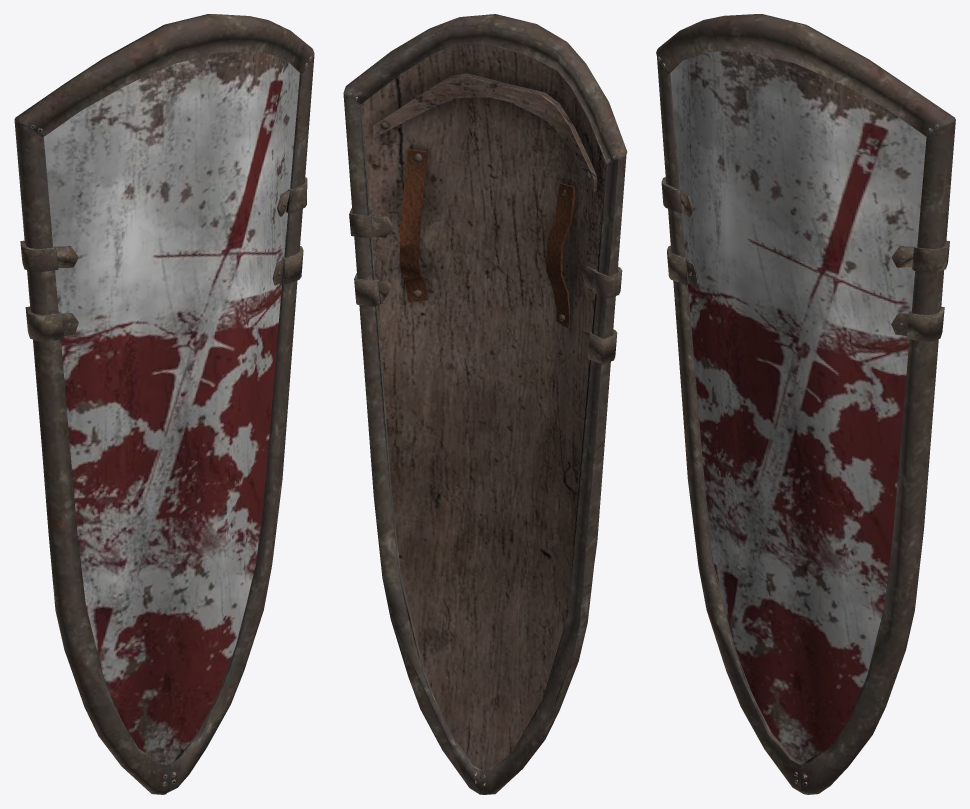
The model's file is kite_shield.glb.
3 views of the same model, side by side, from view 1: azimuth 30°, elevation 25°; view 2: azimuth 150°, elevation 25°; view 3: azimuth 330°, elevation 25° (orthographic). The views are drawn at different scales.
Parts seen in each view (by area): view 1: kite_shield_body, kite_shield_metal_trim; view 2: kite_shield_body, kite_shield_metal_trim; view 3: kite_shield_body, kite_shield_metal_trim.
Boxes of the visible parts, box(x1,y1,x2,y2) form: kite_shield_body: box(43, 51, 299, 764); kite_shield_metal_trim: box(14, 14, 314, 794); kite_shield_body: box(361, 45, 606, 770); kite_shield_metal_trim: box(343, 14, 627, 794); kite_shield_body: box(670, 51, 926, 763); kite_shield_metal_trim: box(656, 14, 955, 794).
Size of the model in its own units: 0.5432 by 1.39 by 0.1347.
2 materials, 2 textured.
